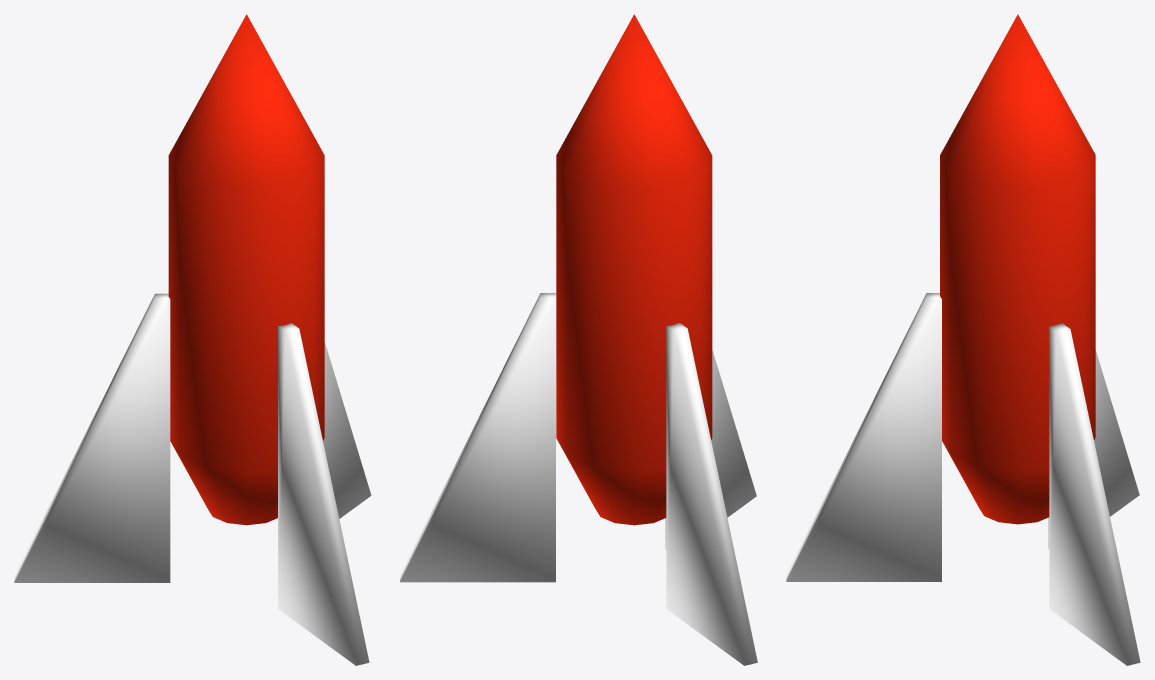
Rendered from rocket.obj.
3 views of the same model, side by side, from view 1: azimuth 30°, elevation 25°; view 2: azimuth 150°, elevation 25°; view 3: azimuth 270°, elevation 25° (orthographic).
Visible parts, largest first — view 1: body, wing2, wing1, wing3; view 2: body, wing3, wing2, wing1; view 3: body, wing1, wing3, wing2.
Boxes of the visible parts, x1,y1,x2,y2 form: body: (168,14,324,525); wing2: (14,293,170,582); wing1: (278,323,369,665); wing3: (323,342,371,518); body: (556,14,712,525); wing3: (400,293,555,582); wing2: (666,323,757,665); wing1: (665,350,756,549); body: (940,14,1095,524); wing1: (786,293,941,581); wing3: (1049,323,1140,665); wing2: (1048,350,1139,548).
Bounding box in the file's own units: 5.29 × 8 × 4.55.
